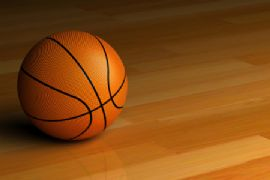basketball: (17, 30, 128, 142)
